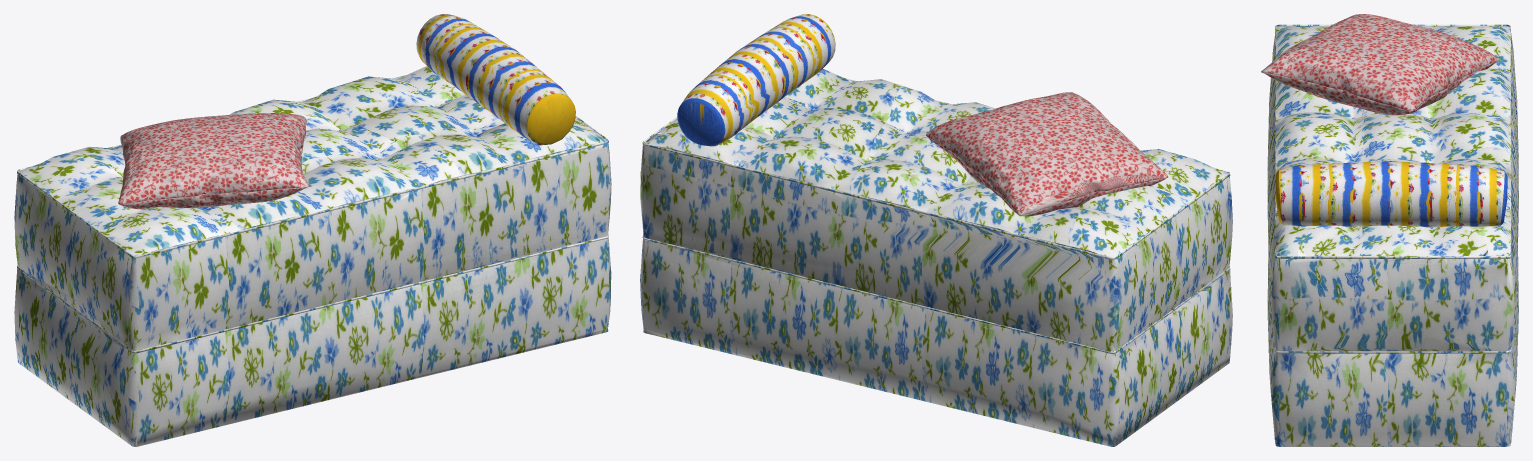
The model's file is sofa.fbx.
3 views of the same model, side by side, from view 1: azimuth 30°, elevation 25°; view 2: azimuth 150°, elevation 25°; view 3: azimuth 270°, elevation 25° (orthographic).
Parts seen in each view (by area): view 1: sofa, pillow_sq, pillow_rec; view 2: sofa, pillow_sq, pillow_rec; view 3: sofa, pillow_sq, pillow_rec.
Boxes of the visible parts, box(x1,y1,x2,y2) form: sofa: box(14, 66, 611, 446); pillow_sq: box(118, 113, 308, 209); pillow_rec: box(416, 14, 575, 144); sofa: box(640, 69, 1232, 446); pillow_sq: box(926, 92, 1167, 216); pillow_rec: box(677, 14, 835, 146); sofa: box(1267, 24, 1518, 446); pillow_sq: box(1261, 14, 1499, 115); pillow_rec: box(1275, 161, 1507, 227).
Bounding box in the file's own units: 144 × 72.01 × 65.86.
Materials: 11 (3 with a texture image).
